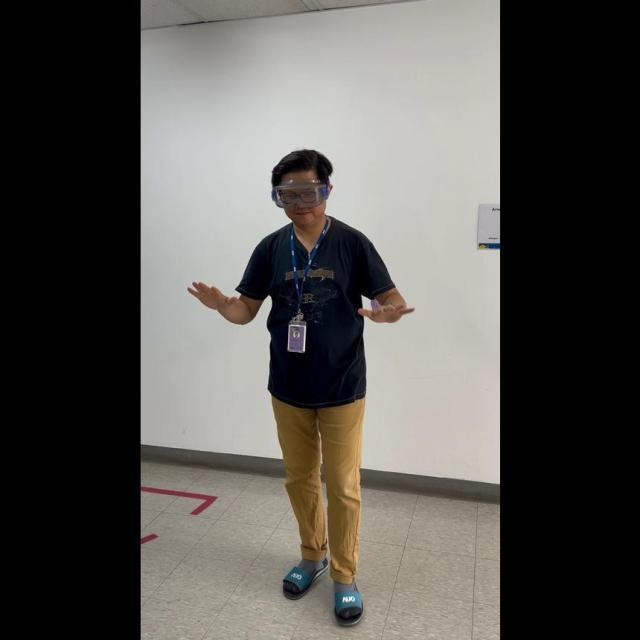bare_hand: (183, 275, 241, 316), (353, 292, 415, 326)
